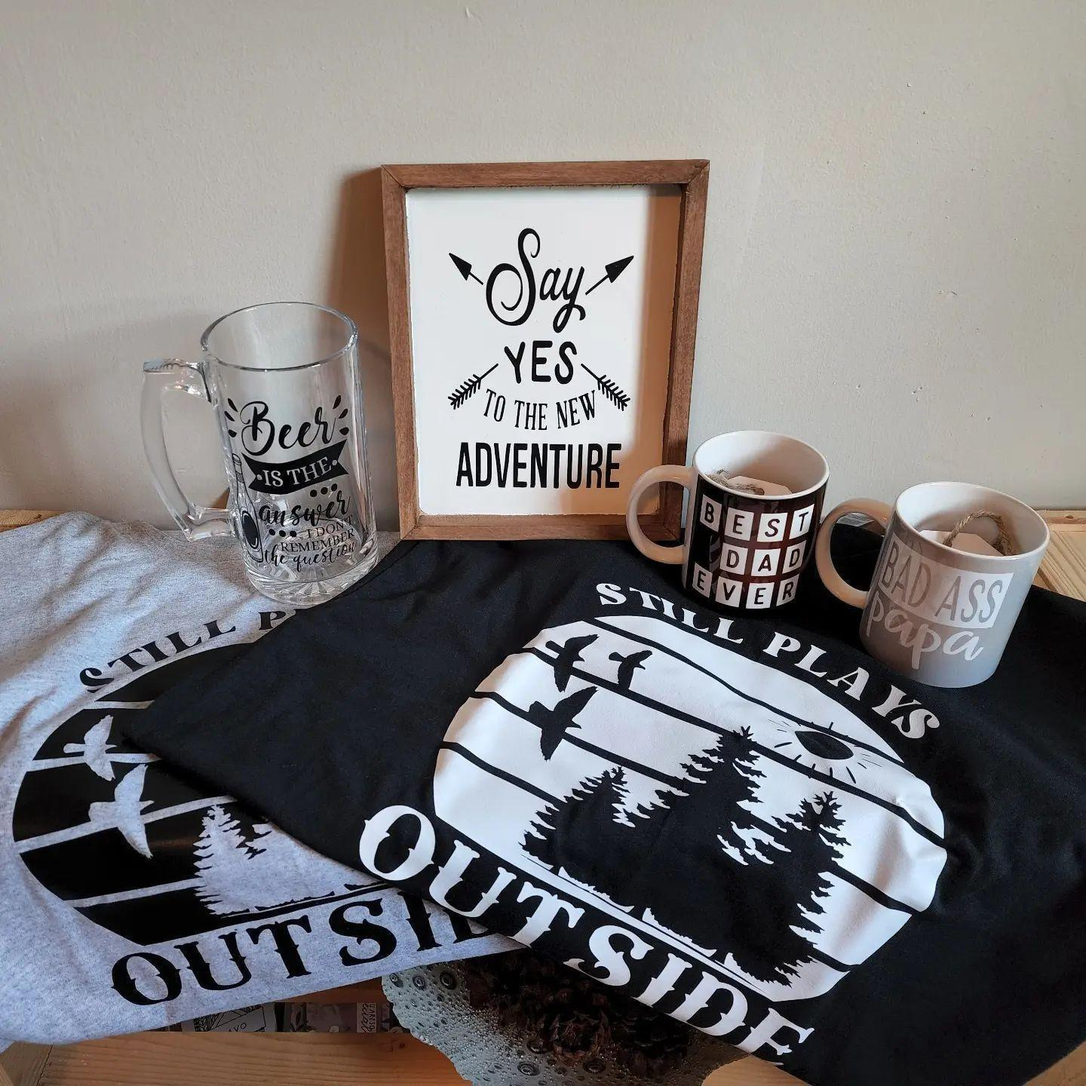cup-handle: (815, 480, 1055, 698), (627, 428, 834, 628)
glass-mug: (134, 299, 383, 609)
